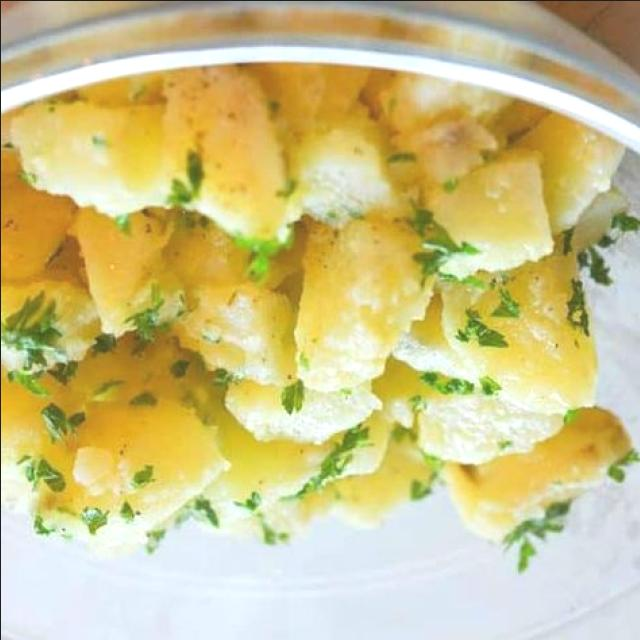kentang rebus: (223, 217, 432, 443), (393, 250, 597, 409)
